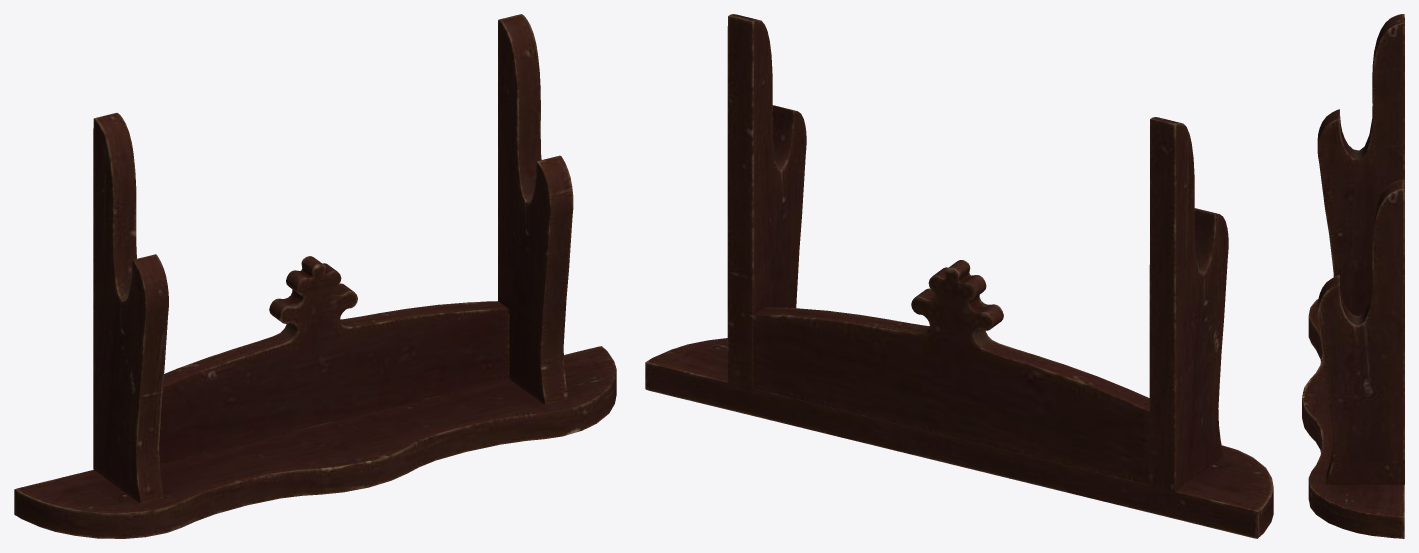
3 renders of one model, left to right at view 1: azimuth 30°, elevation 25°; view 2: azimuth 150°, elevation 25°; view 3: azimuth 270°, elevation 25°, orthographic. The views are drawn at different scales.
Visible parts, largest first — view 1: katana_stand_01; view 2: katana_stand_01; view 3: katana_stand_01.
Boxes of the visible parts, x1,y1,x2,y2 form: katana_stand_01: (14, 14, 616, 538); katana_stand_01: (645, 14, 1273, 538); katana_stand_01: (1302, 14, 1404, 538).
Bounding box in the file's own units: 0.2958 × 0.1819 × 0.0535.
Materials: 1 (1 with a texture image).
